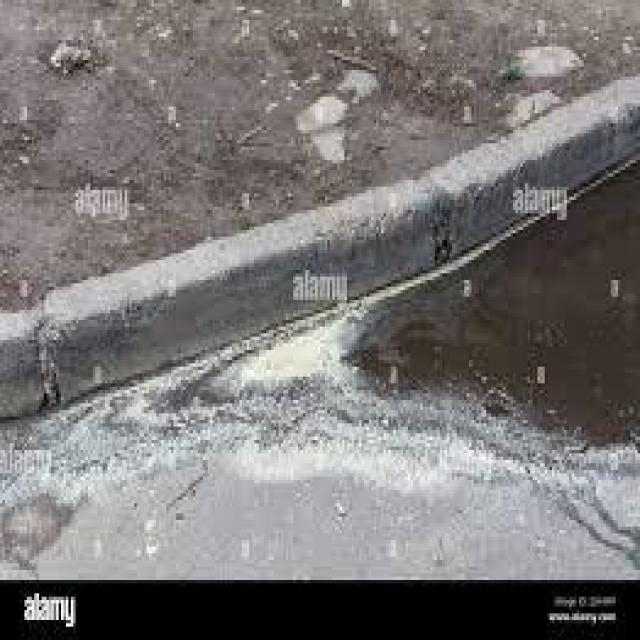bump: (0, 138, 538, 396)
